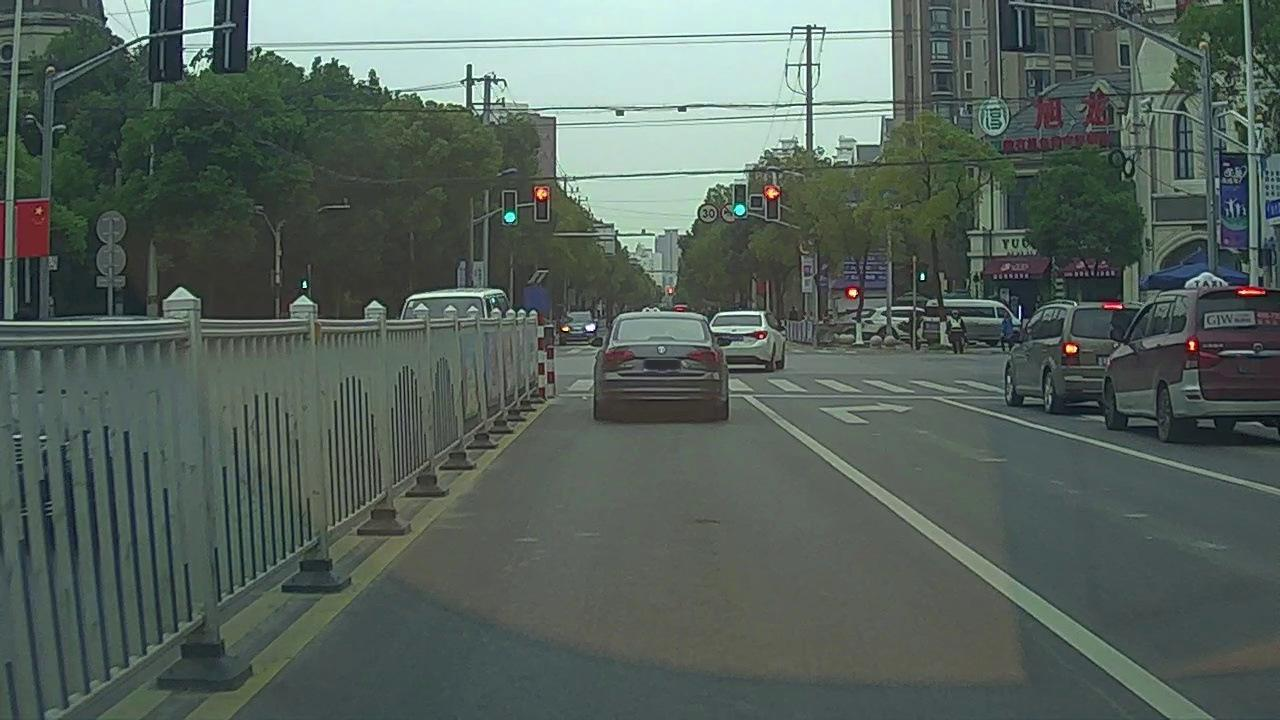traffic_light: (502, 192, 517, 224), (733, 184, 746, 218), (535, 186, 547, 221), (767, 186, 779, 219)
